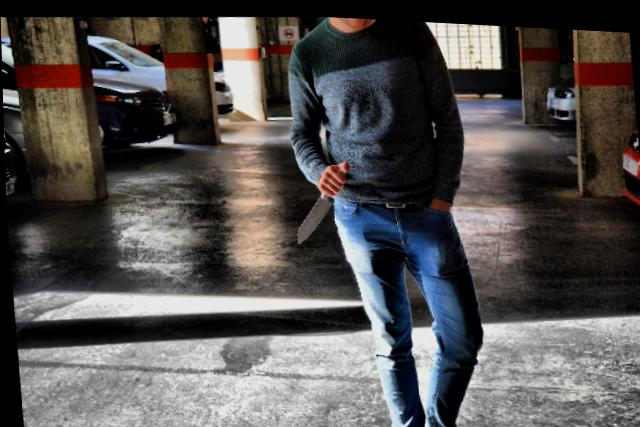knife: (287, 154, 355, 248)
